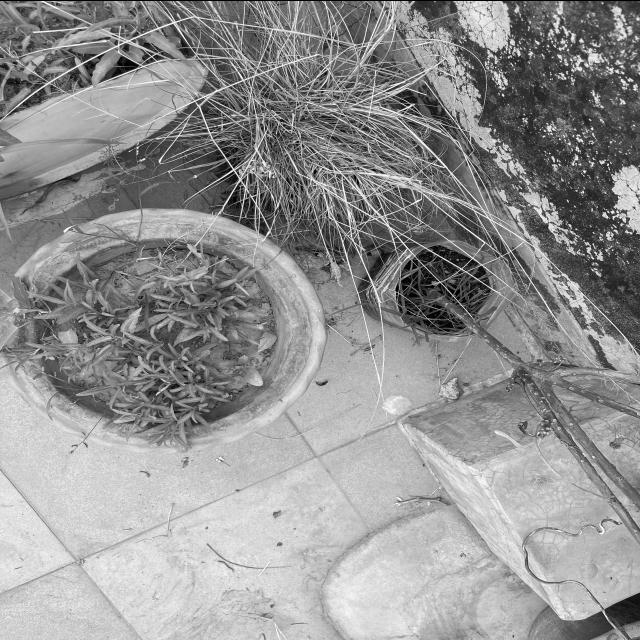Breeding Place: (0, 209, 316, 452), (366, 229, 508, 339)
